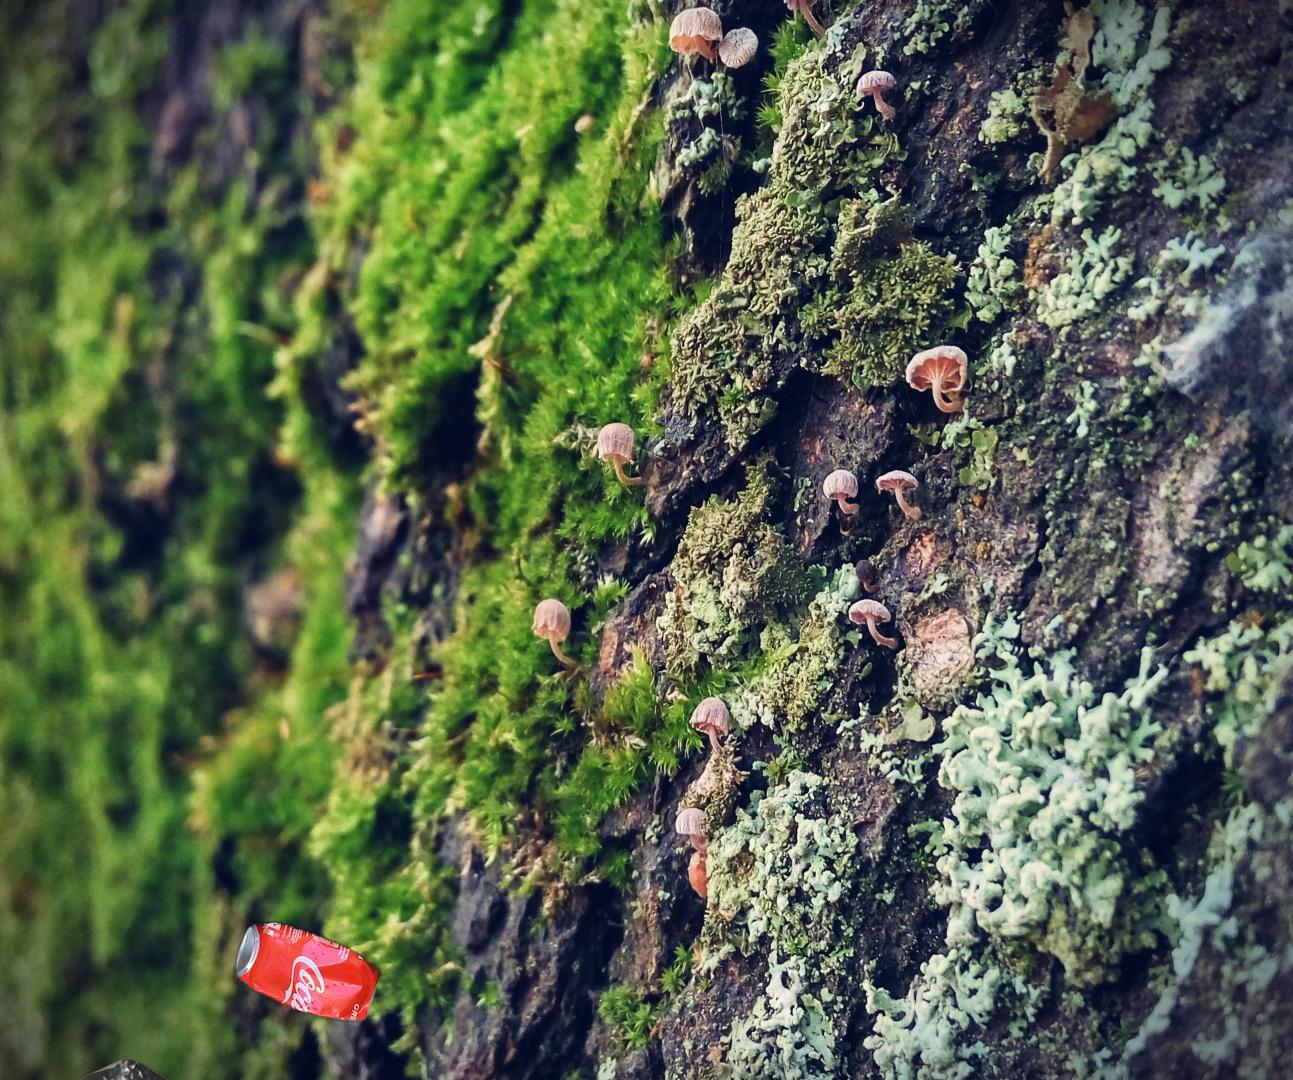metal-cans: (231, 915, 386, 1028)
plastic-bag: (30, 1054, 197, 1080)
